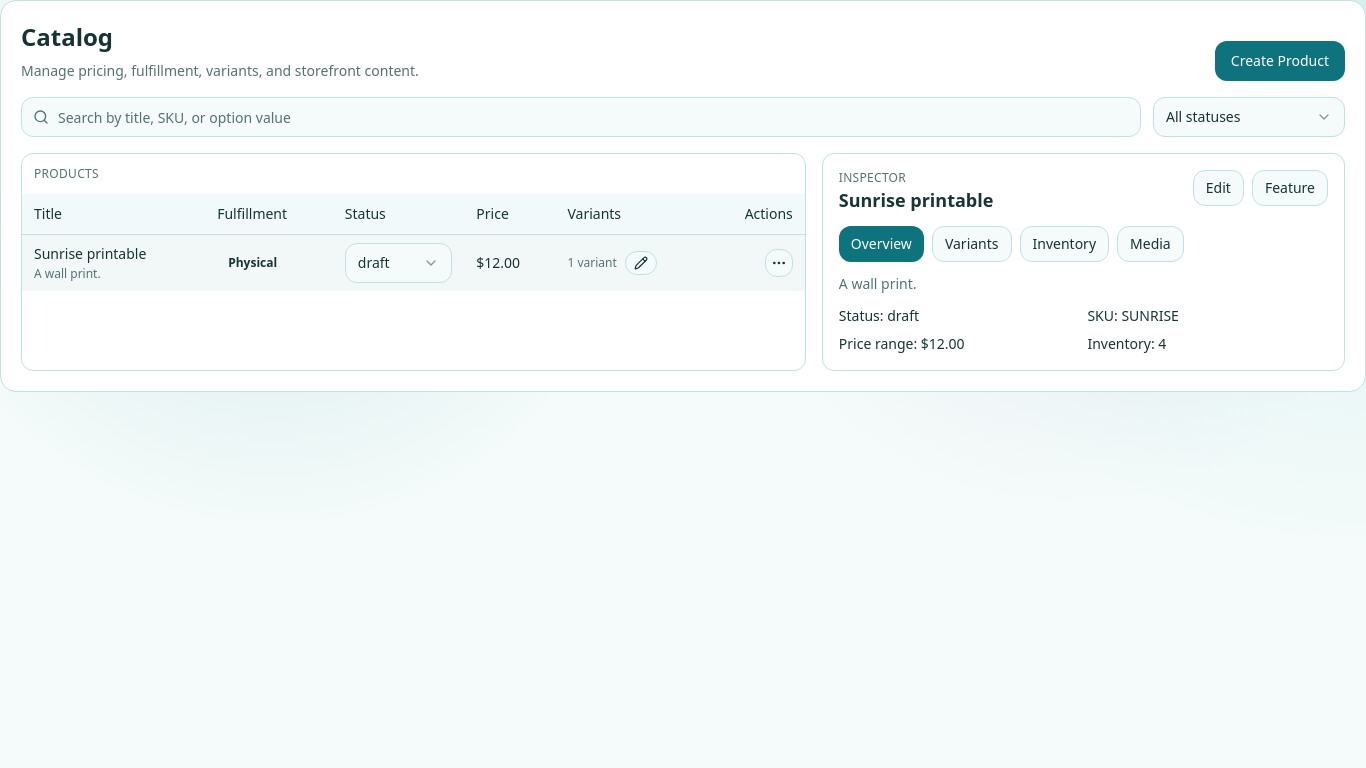
prompts raised from inside the product editor › puts the delete-variant confirmation above the sheet that raised it
Click the button "Edit" at (1218, 188), box 1193,170 -> 1244,206
(page scrolled)
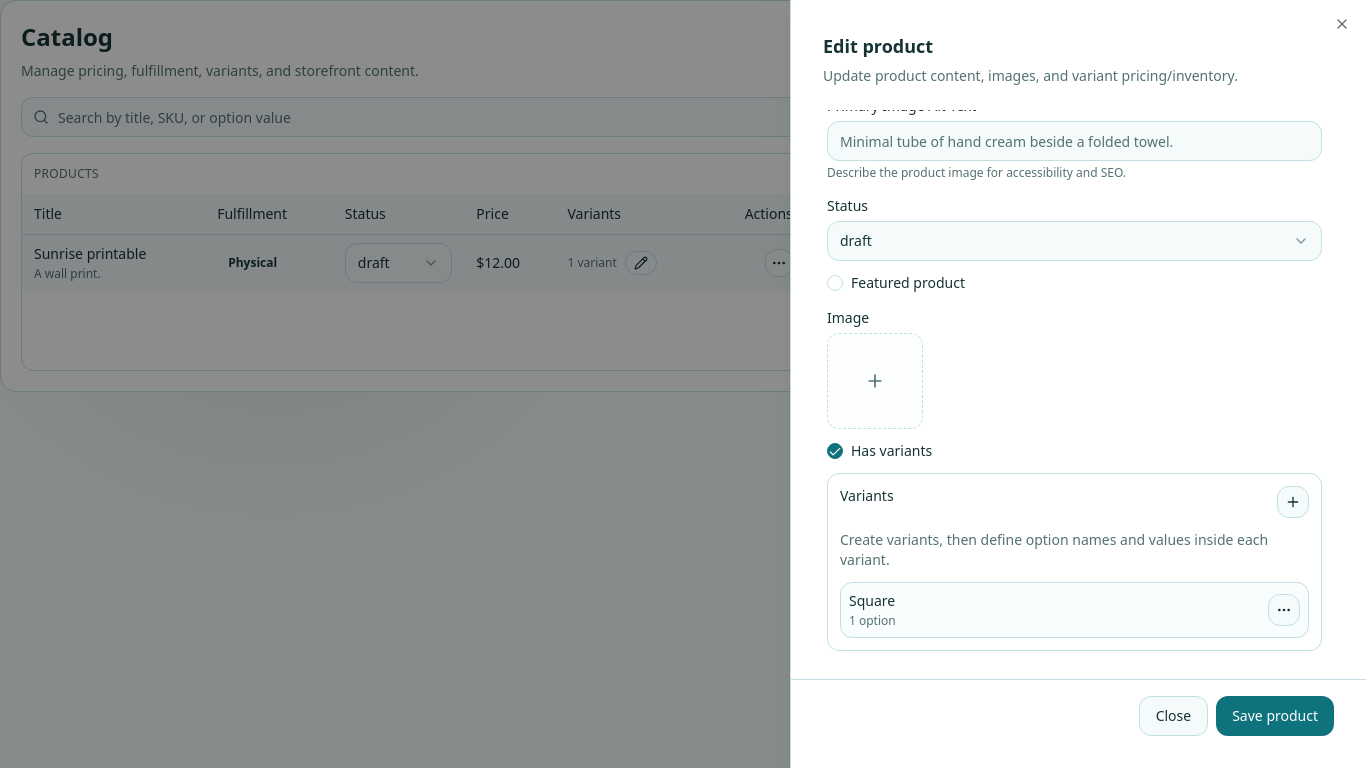
Click the button named "Manage Square" at (1284, 610), box 1268,594 -> 1300,626
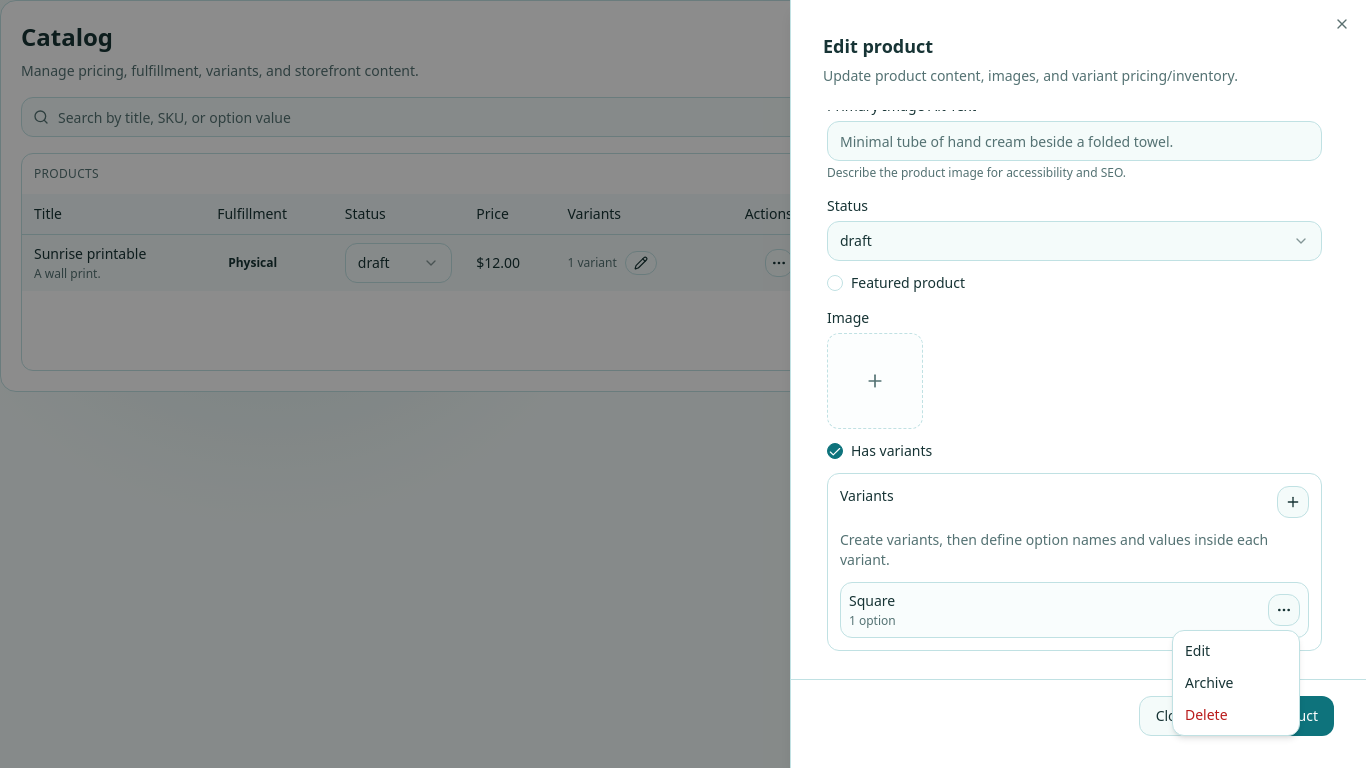
Click the menu item "Delete" at (1206, 714), box 1185,705 -> 1228,724
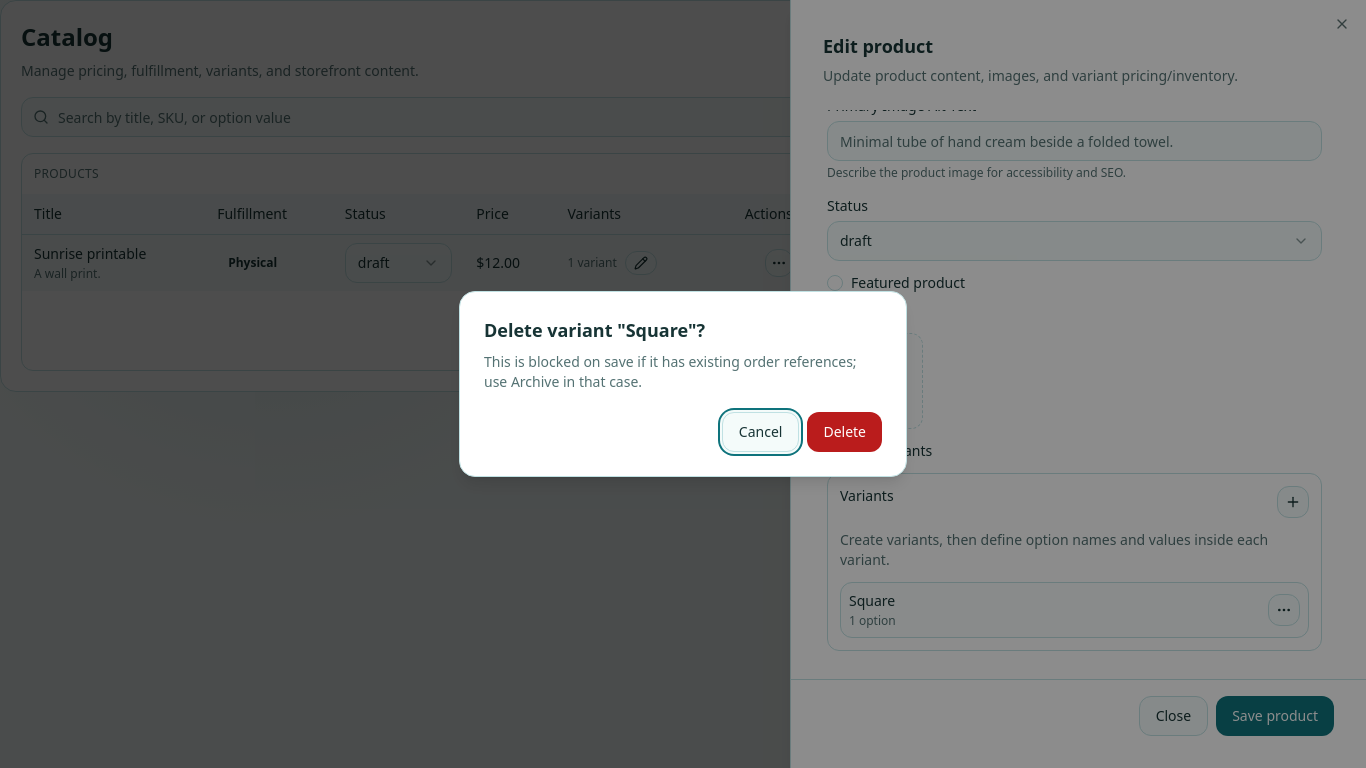
And it answers, rather than sitting under a backdrop that eats the click.
Click the button "Cancel" at (761, 432), box 722,412 -> 799,452
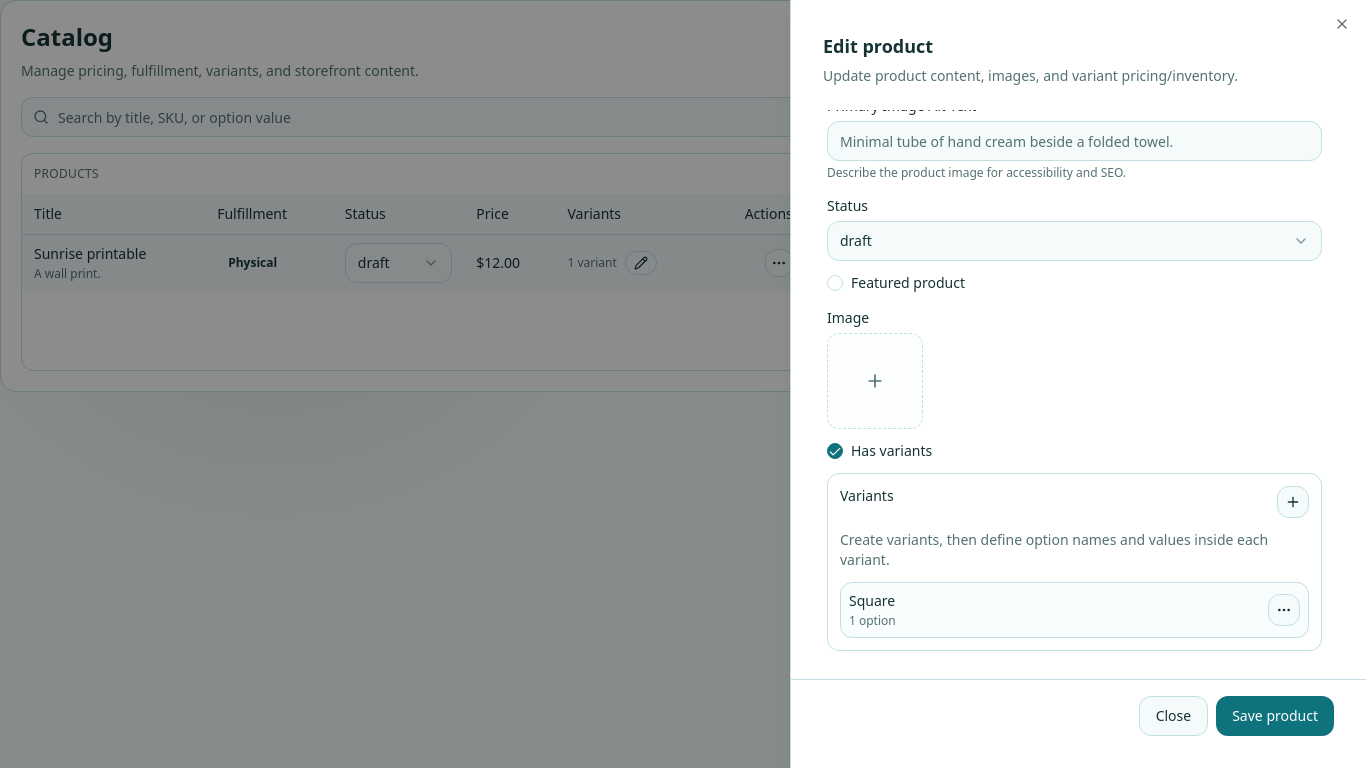
Now the heading "Delete variant" is gone
